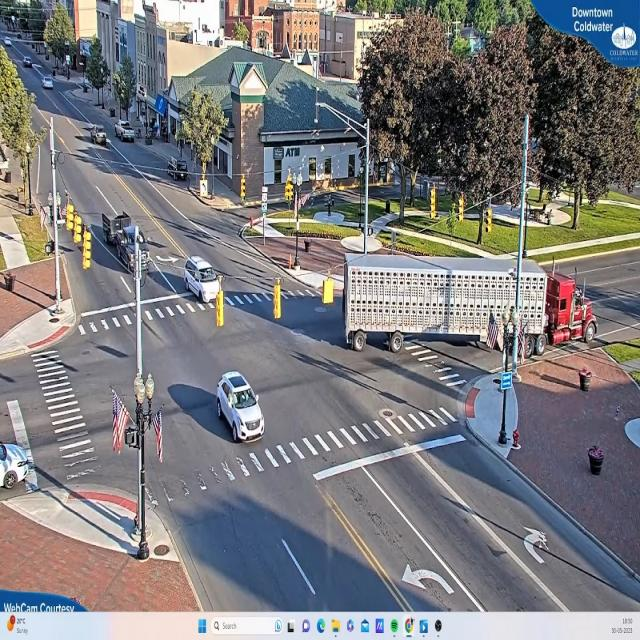car: (215, 370, 266, 444), (181, 255, 227, 304), (0, 444, 38, 490), (117, 229, 154, 267), (118, 122, 136, 142)
truck: (342, 250, 593, 358)
